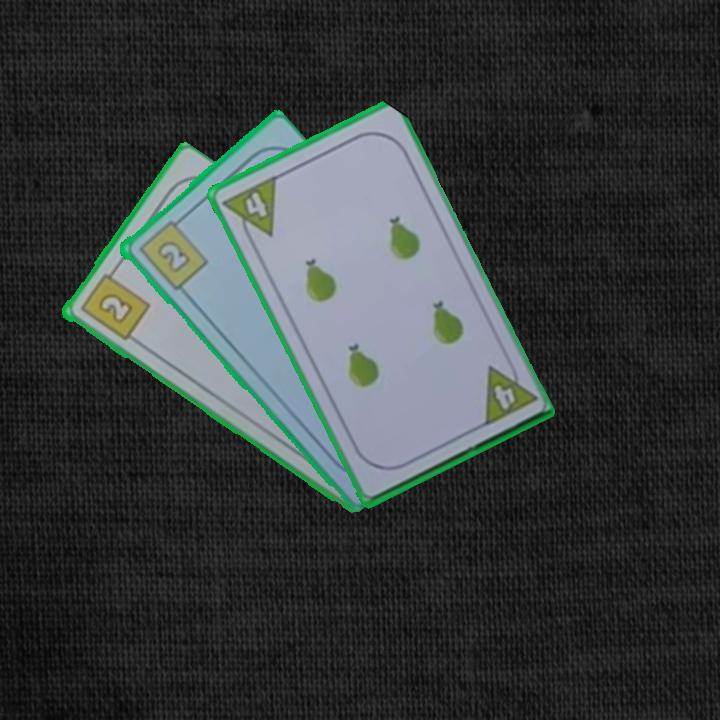2b: (134, 212, 210, 293), (76, 264, 152, 344)
4p: (219, 172, 279, 248), (478, 354, 538, 430)
